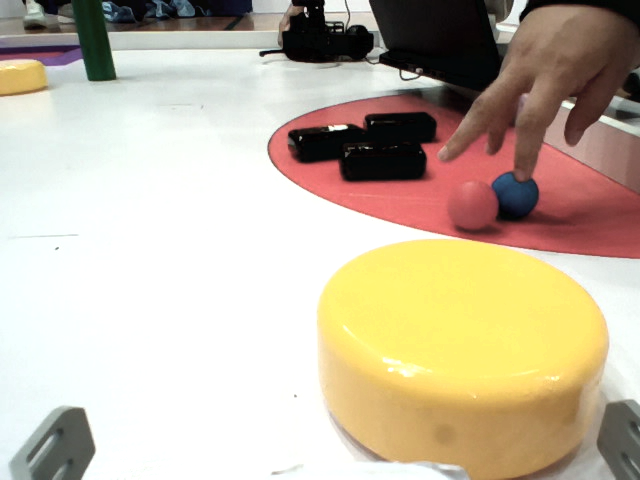black: (358, 93, 445, 149), (336, 145, 439, 192), (273, 123, 372, 163)
blue: (491, 166, 543, 222)
kuang: (1, 39, 89, 73)
red: (438, 177, 497, 229)
yellow: (313, 238, 610, 478), (1, 54, 59, 98)
zhuzi: (66, 1, 128, 86)
